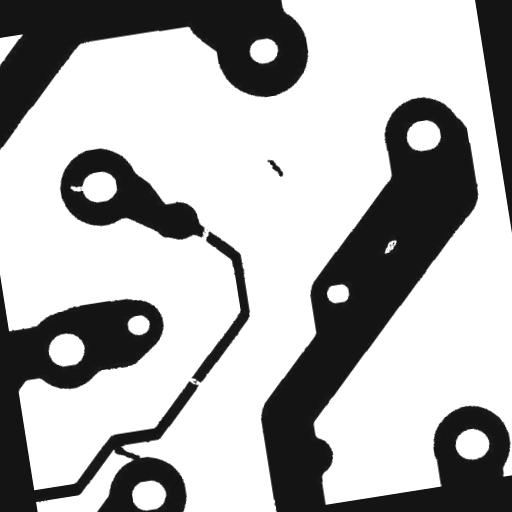copper: (258, 148, 292, 186)
mousebite: (61, 174, 97, 200)
open: (190, 217, 220, 250), (179, 366, 212, 396)
pin-hole: (373, 230, 406, 262)
short: (102, 433, 148, 471)
